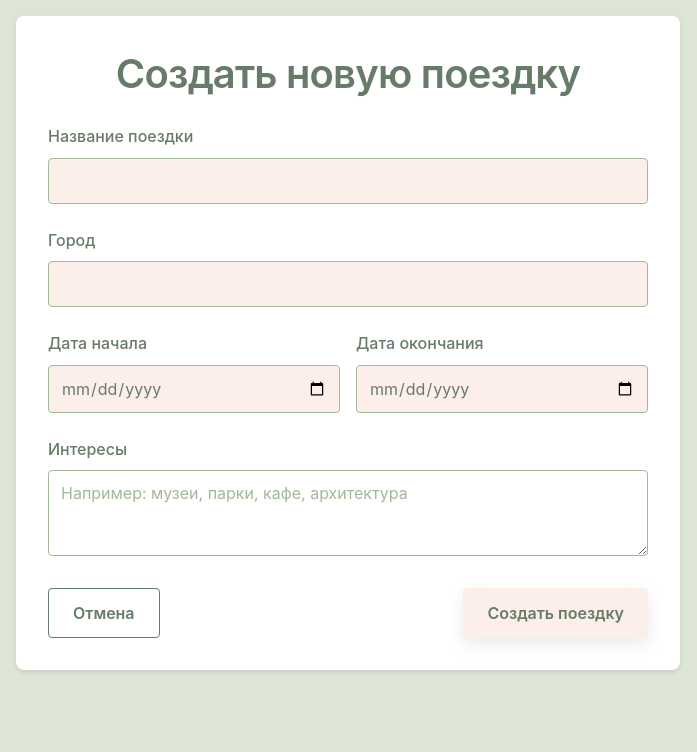
it: CreateTripPage › shows error message on creation failure
Type "Москва" into the field labelled "Название поездки" at (348, 181), box [48,158,648,204]
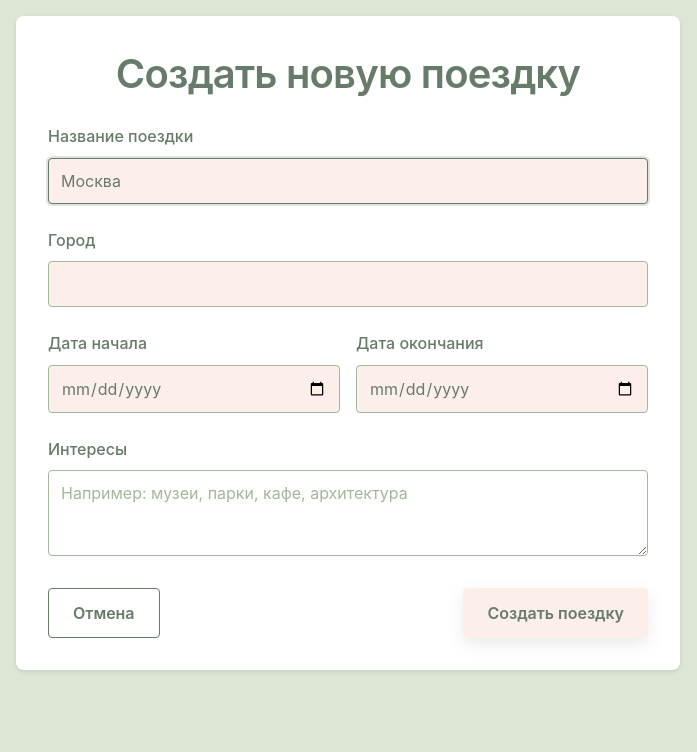
Type "Москва" into the field labelled "Город" at (348, 284), box [48,261,648,307]
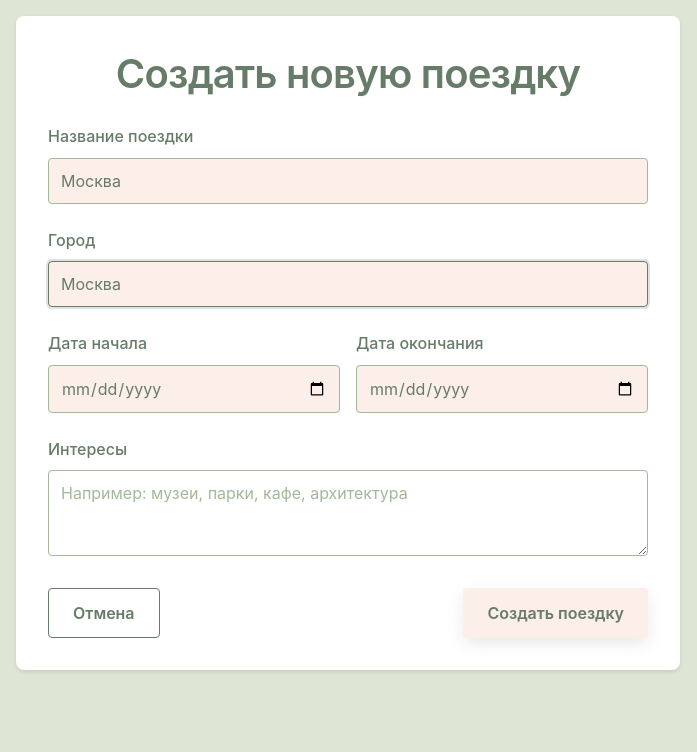
Type "2024-07-01" into the date field labelled "Дата начала" at (194, 389), box [48,365,340,413]
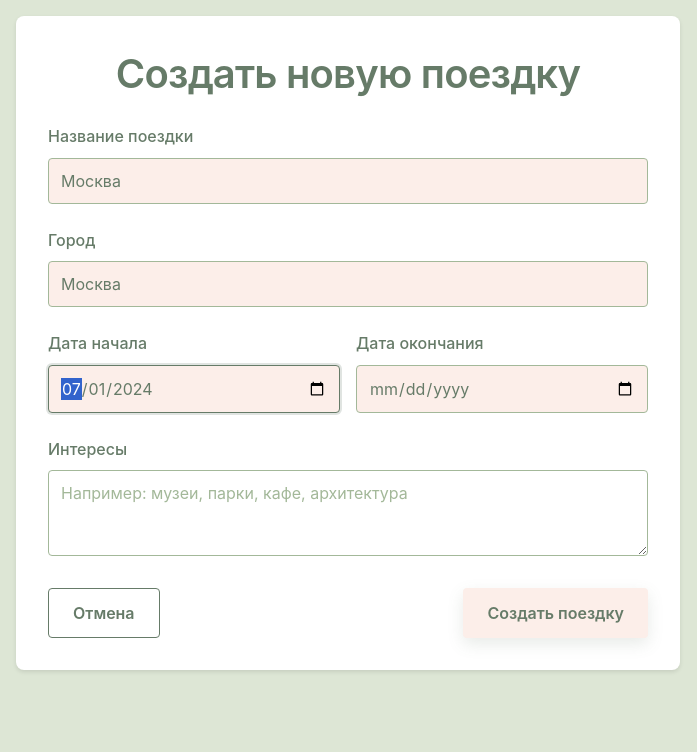
Type "2024-07-07" into the date field labelled "Дата окончания" at (502, 389), box [356,365,648,413]
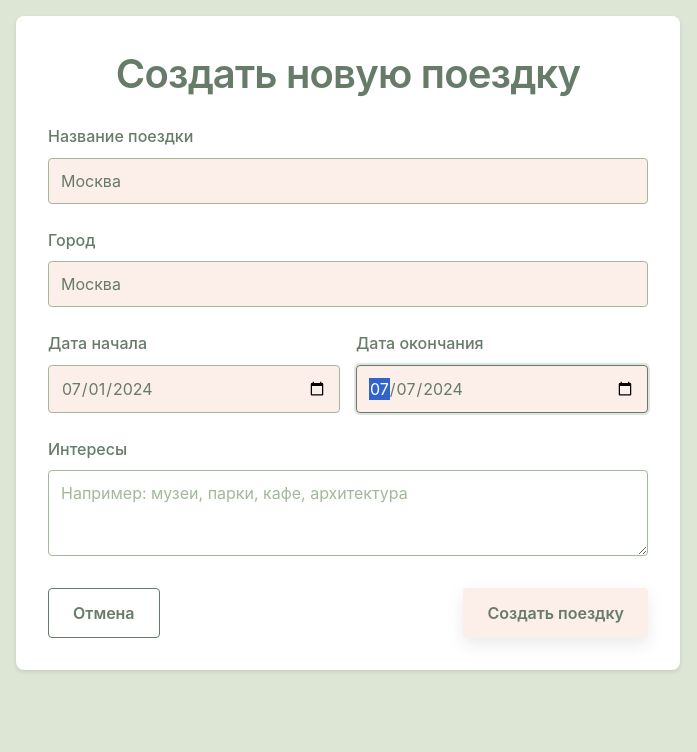
Click the button "Создать поездку" at (556, 613), box [463,588,648,638]
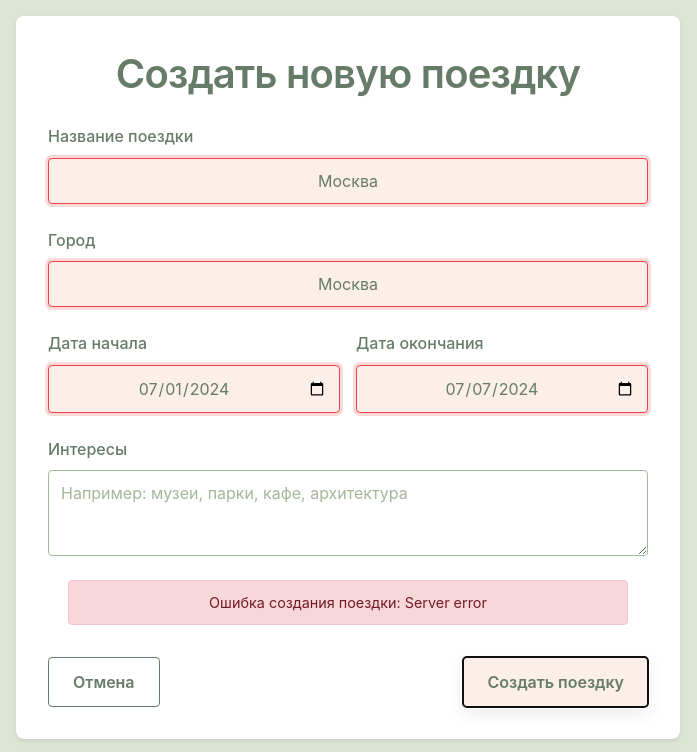
Check: the text "Ошибка создания поездки: Server error" is shown, box [68,580,628,625]
